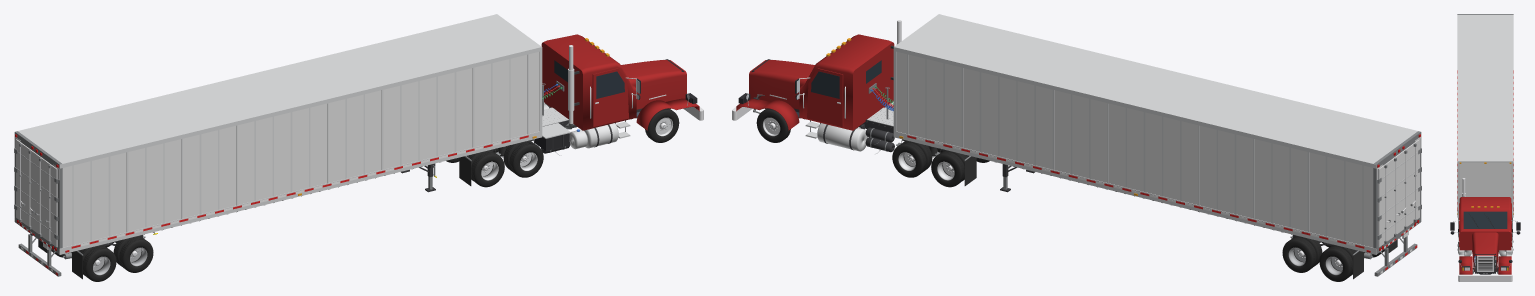
The model's file is cdl_semi.glb.
The picture shows the model from 3 angles, left to right: view 1: azimuth 30°, elevation 25°; view 2: azimuth 150°, elevation 25°; view 3: azimuth 270°, elevation 25°; orthographic projection. The views are drawn at different scales.
Parts seen in each view (by area): view 1: Trailer_Box, Cab_Body, Hood, Cab_Door_R, Trailer_Rear_Door_R, Trailer_Rear_Door_L, Trailer_Rear_Frame, Trailer_Conspicuity_Tape_R, Fender_R, Drive1_R_Tire_Outer, Drive2_R_Tire_Outer, TrlAxle1_R_Tire_Outer (+6 smaller); view 2: Trailer_Box, Cab_Body, Hood, Cab_Door_L, Trailer_Rear_Door_L, Trailer_Rear_Door_R, Trailer_Rear_Frame, Trailer_Conspicuity_Tape_L, Fuel_Tank_L, Fender_L, Drive1_L_Tire_Outer, Drive2_L_Tire_Outer (+4 smaller); view 3: Trailer_Box, Cab_Body, Windshield, Hood, Front_Bumper, Grille, Fender_L, Fender_R, Trailer_Conspicuity_Tape_L, Trailer_Conspicuity_Tape_R, Radiator, Fuel_Tank_L (+6 smaller).
Boxes of the visible parts, x1,y1,x2,y2 form: Trailer_Box: [14, 14, 542, 254]; Cab_Body: [541, 34, 636, 130]; Hood: [621, 60, 686, 109]; Cab_Door_R: [592, 68, 628, 126]; Trailer_Rear_Door_R: [35, 154, 57, 247]; Trailer_Rear_Door_L: [16, 139, 36, 231]; Trailer_Rear_Frame: [14, 131, 62, 254]; Trailer_Conspicuity_Tape_R: [71, 135, 528, 248]; Fender_R: [636, 98, 699, 130]; Drive1_R_Tire_Outer: [509, 142, 543, 177]; Drive2_R_Tire_Outer: [471, 151, 504, 187]; TrlAxle1_R_Tire_Outer: [119, 237, 153, 272]; Trailer_Box: [893, 14, 1417, 254]; Cab_Body: [799, 34, 894, 130]; Hood: [749, 60, 814, 109]; Cab_Door_L: [807, 68, 843, 126]; Trailer_Rear_Door_L: [1378, 154, 1400, 247]; Trailer_Rear_Door_R: [1399, 139, 1419, 231]; Trailer_Rear_Frame: [1373, 131, 1421, 254]; Trailer_Conspicuity_Tape_L: [907, 135, 1364, 248]; Fuel_Tank_L: [817, 123, 868, 151]; Fender_L: [736, 98, 799, 130]; Drive1_L_Tire_Outer: [892, 142, 926, 177]; Drive2_L_Tire_Outer: [931, 151, 964, 187]; Trailer_Box: [1457, 15, 1513, 217]; Cab_Body: [1459, 197, 1511, 250]; Windshield: [1463, 211, 1507, 228]; Hood: [1472, 232, 1498, 270]; Front_Bumper: [1458, 274, 1512, 281]; Grille: [1477, 255, 1493, 271]; Fender_L: [1498, 256, 1511, 274]; Fender_R: [1459, 256, 1472, 274]; Trailer_Conspicuity_Tape_L: [1513, 71, 1513, 210]; Trailer_Conspicuity_Tape_R: [1457, 71, 1457, 210]; Radiator: [1475, 253, 1495, 274]; Fuel_Tank_L: [1499, 238, 1513, 256].
Size of the model in its own units: 21.73 by 4.11 by 3.26.
